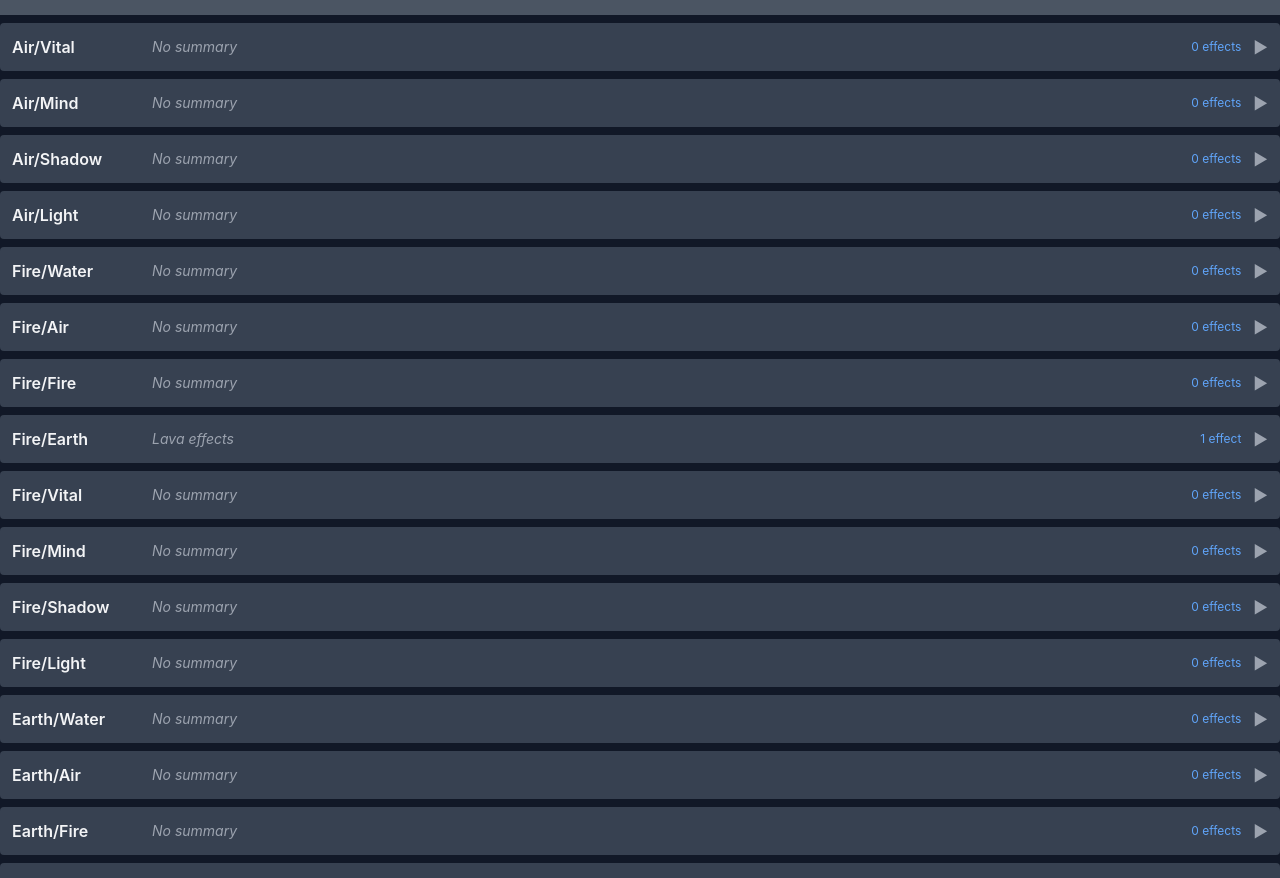
it: EffectFamilyMapView › renders existing effects when provided
(page scrolled)
Click the text "Fire/Earth" at (68, 439), box [12,429,1268,449]
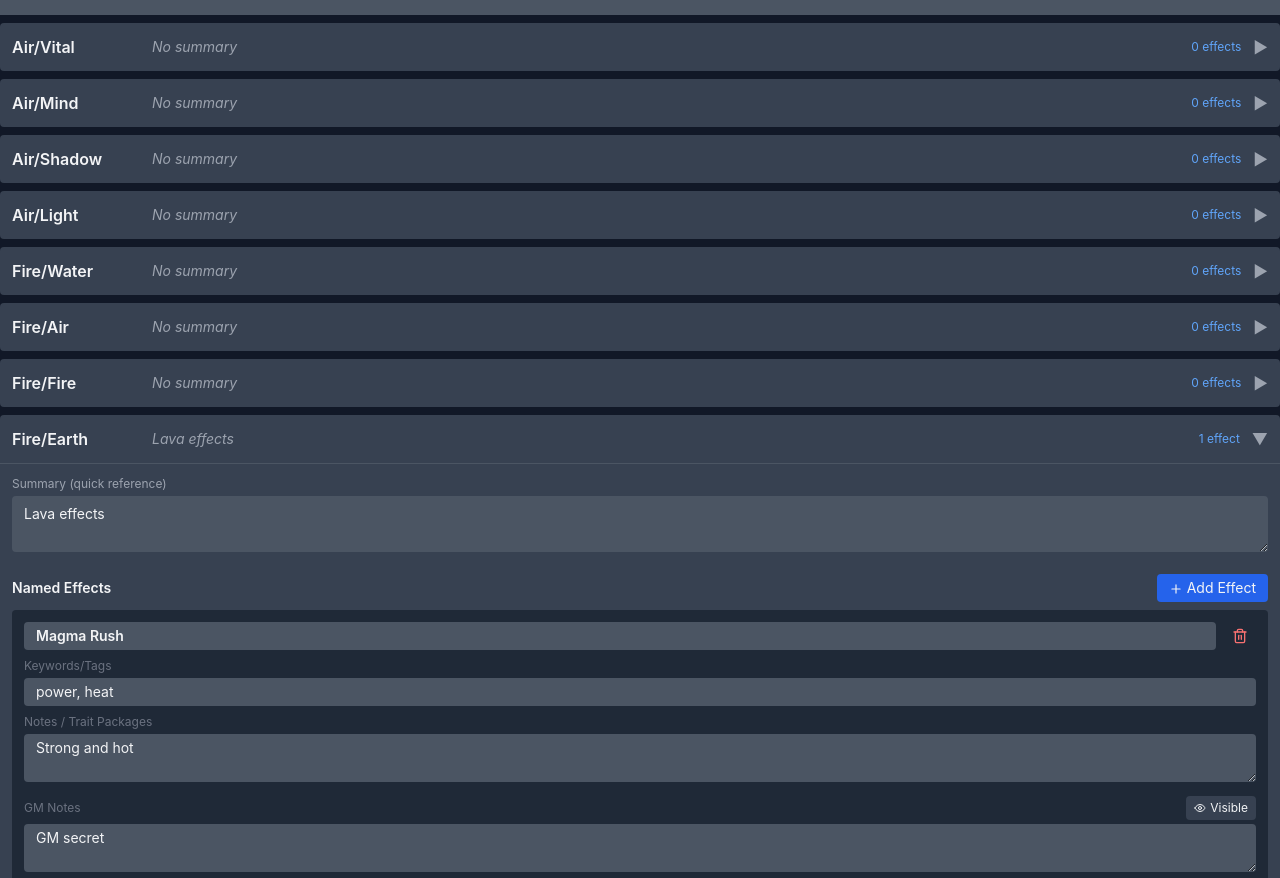
expect the 1st field showing "Magma Rush" is shown: met, box [24,622,1216,650]
